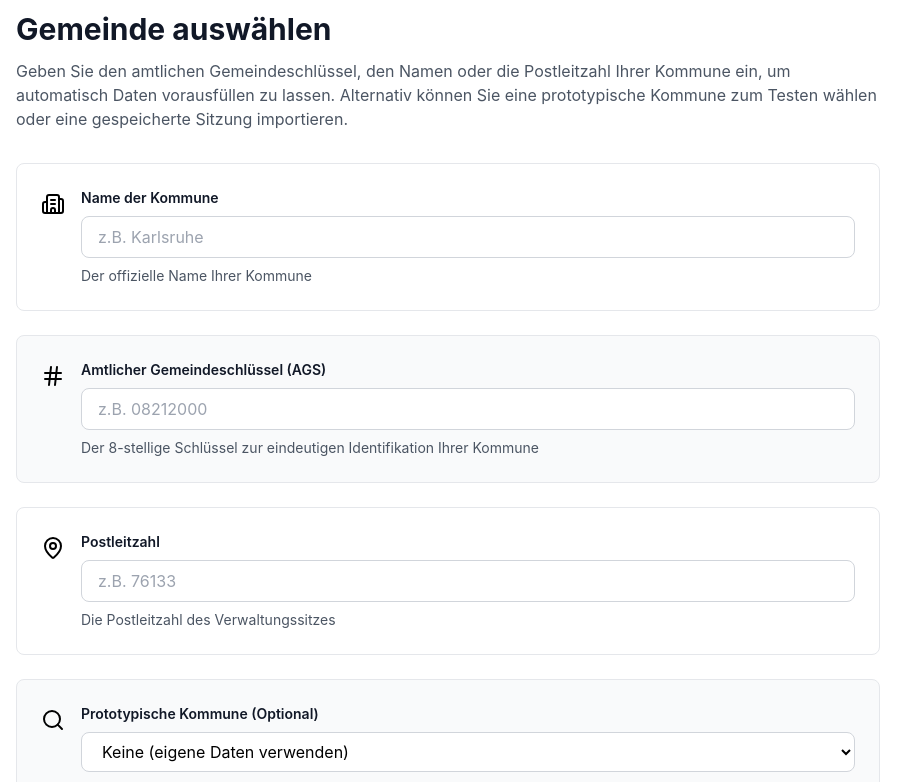
it: StartView › fetches commune by key after 8 digits and populates name and postal code
The width and height of the screenshot is (897, 782).
Type "08212000" into the field with placeholder "z.B. 08212000". click: (468, 409)
box: [81,388,855,430]
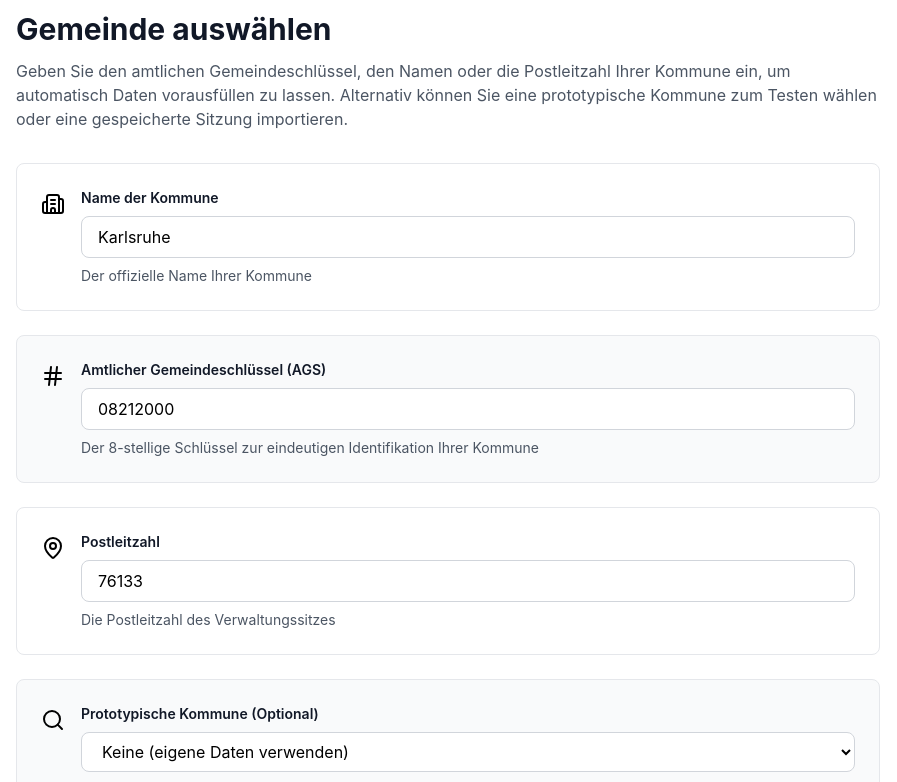
Expected: the field with placeholder "z.B. Karlsruhe" below "Name der Kommune" holds "Karlsruhe", [81,216,855,258]
Expected: the 3rd field with placeholder "z.B. 76133" holds "76133", [81,560,855,602]
